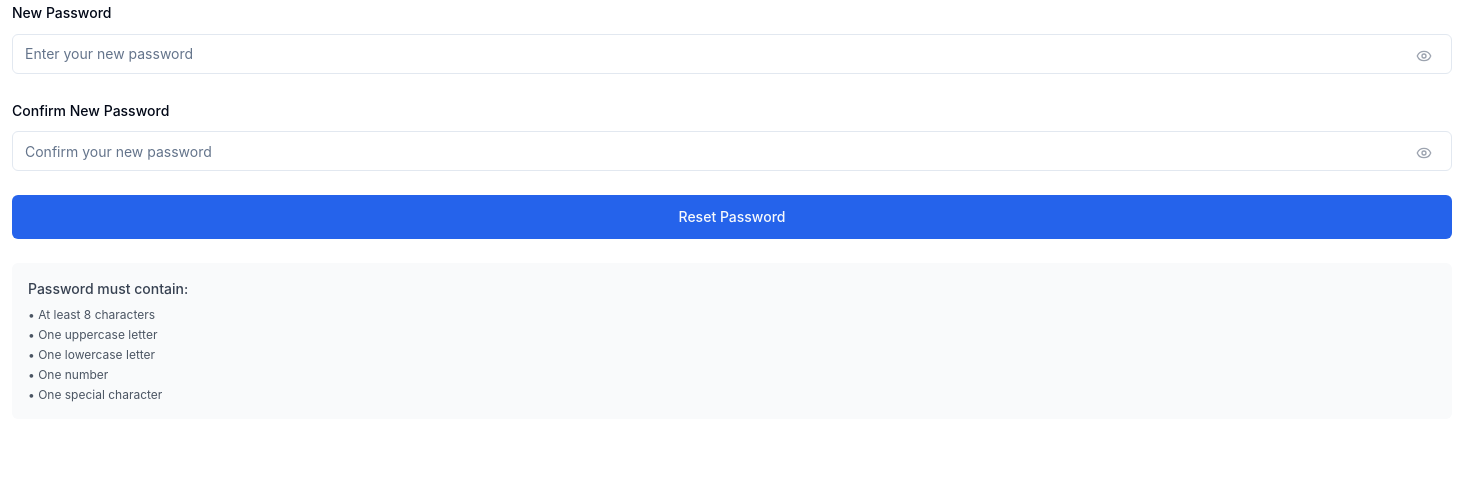
Test: ResetPasswordForm › should show validation error when passwords do not match
Step 1. Type "Password123!" into the password field with placeholder "Enter your new password" → (732, 54), box [12,34,1452,74]
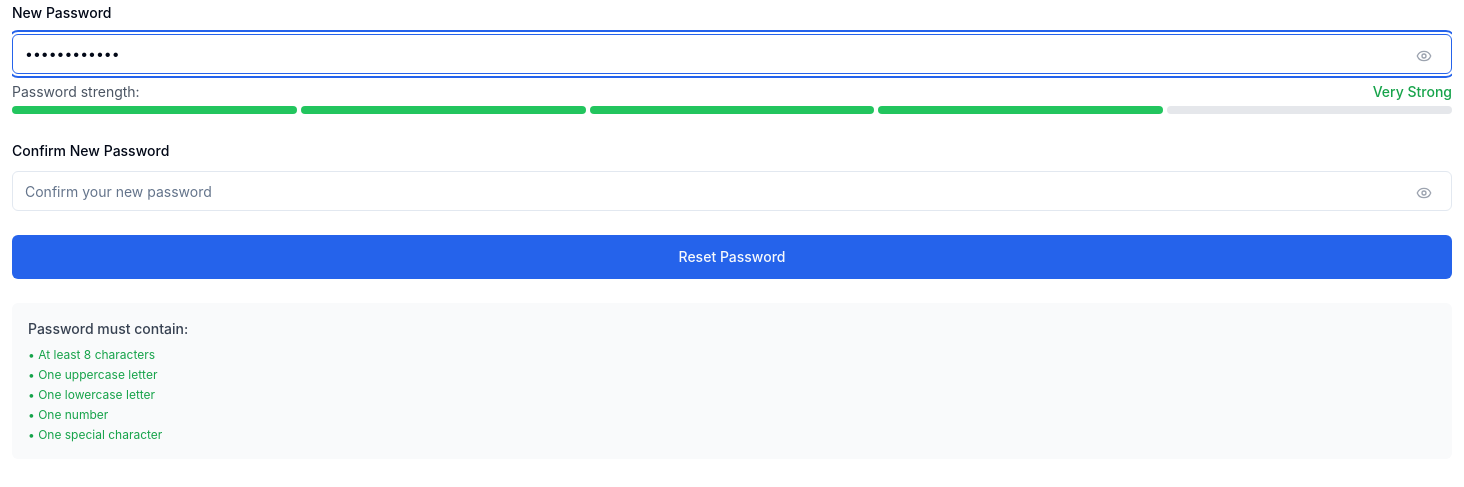
Step 2. Type "DifferentPassword123!" into the password field with placeholder "Confirm your new password" → (732, 191), box [12,171,1452,211]
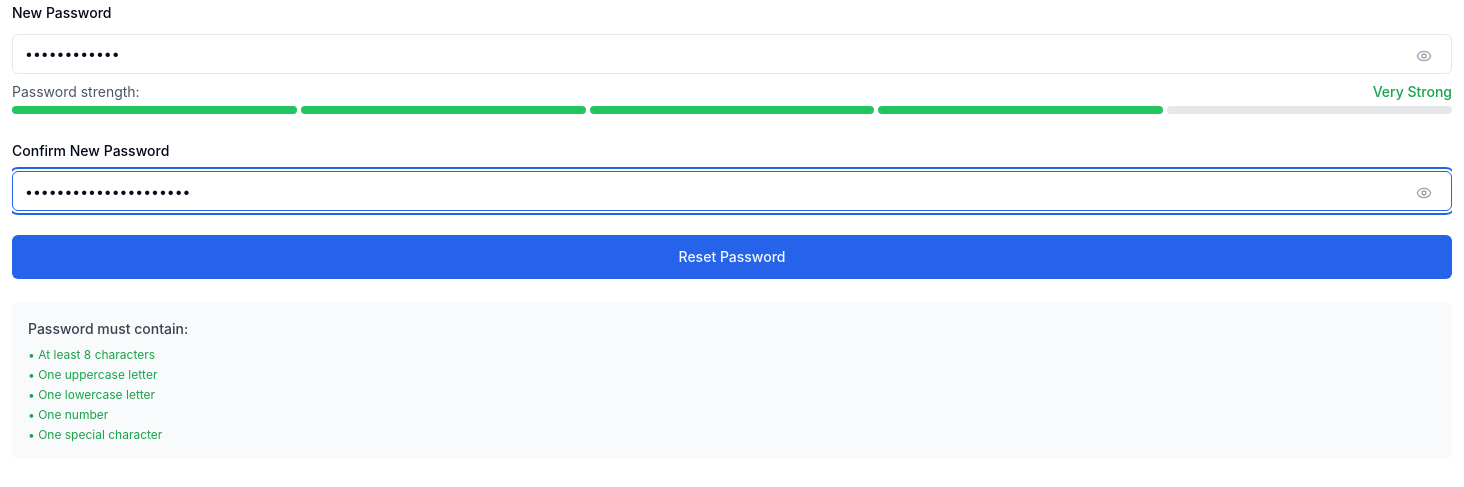
Step 3. Click the button "Reset Password" → click(732, 257), box [12,235,1452,279]
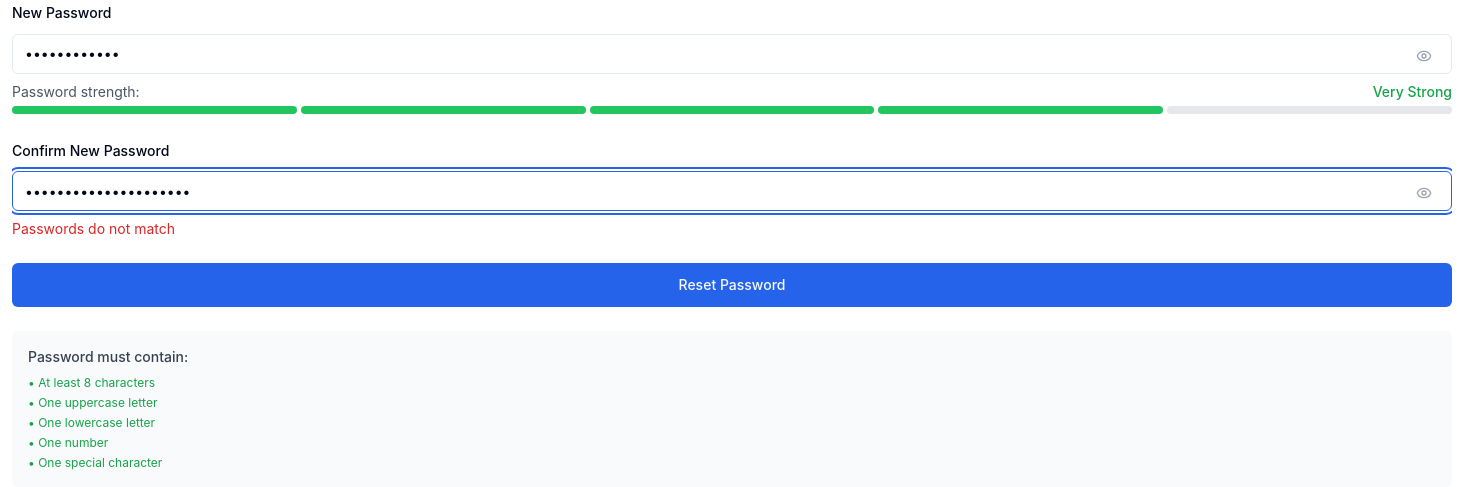
Expected: the text "Passwords do not match" is shown, [12,220,175,237]
